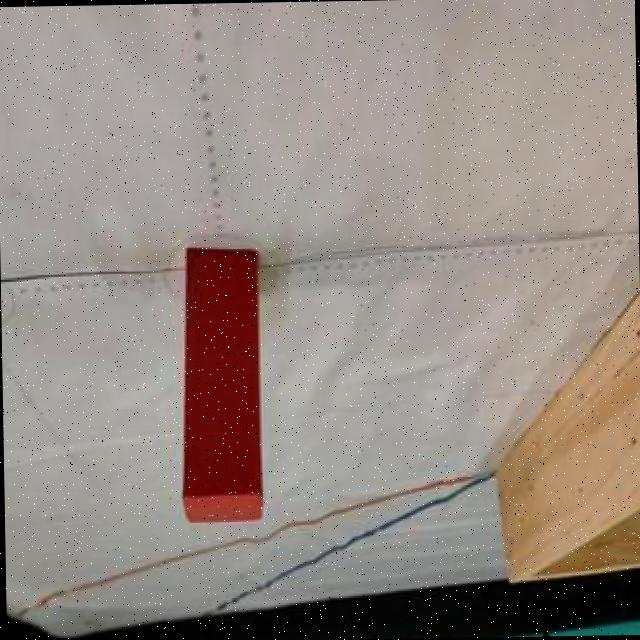redbox: (175, 248, 264, 522)
